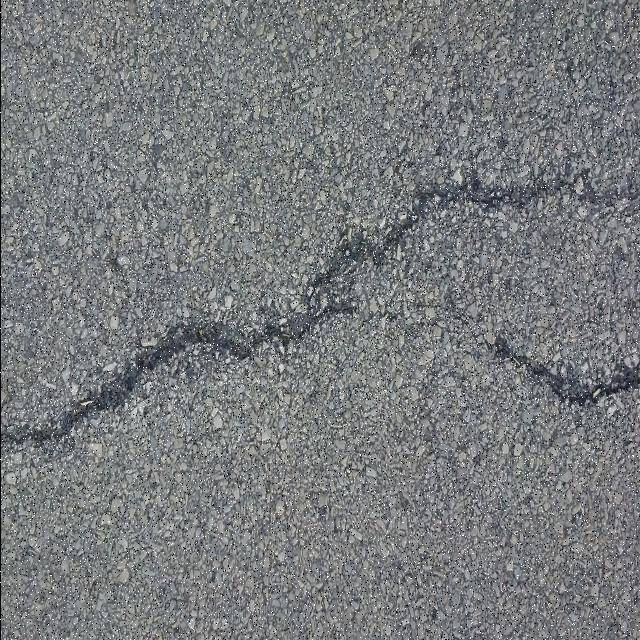Crack: (0, 164, 603, 448), (492, 337, 640, 413)
